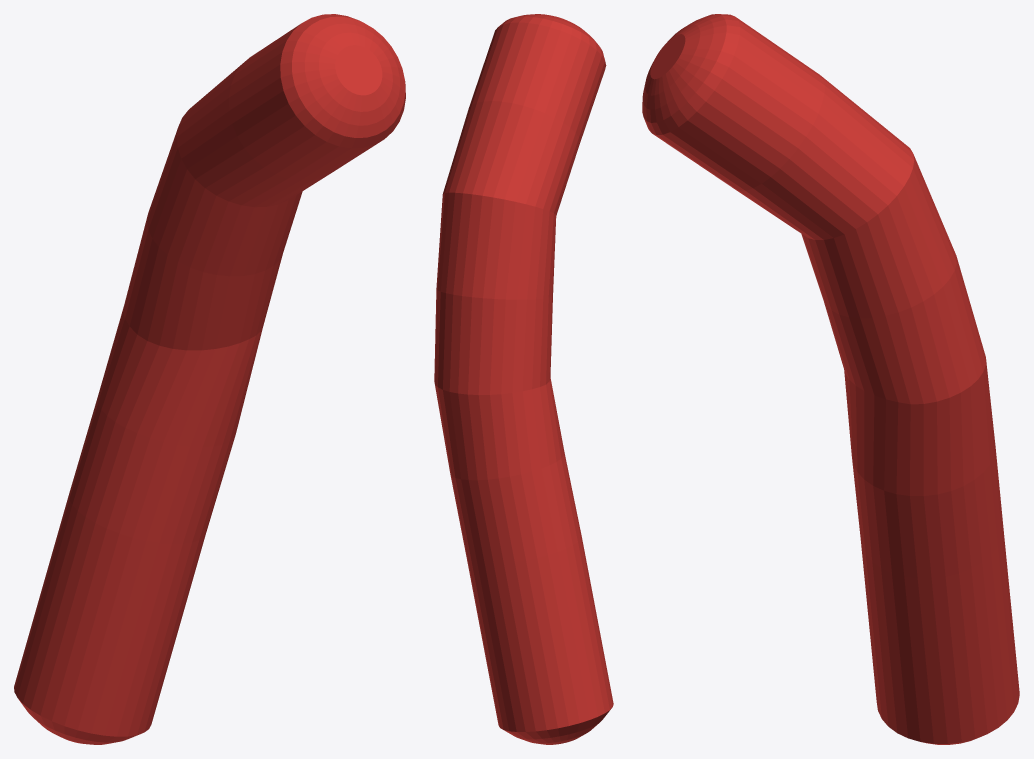
The model's file is hotdog05.fbx.
3 renders of one model, left to right at view 1: azimuth 30°, elevation 25°; view 2: azimuth 150°, elevation 25°; view 3: azimuth 270°, elevation 25°, orthographic. The views are drawn at different scales.
Visible parts, largest first — view 1: hotdog.005; view 2: hotdog.005; view 3: hotdog.005.
Boxes of the visible parts, x1=… form: hotdog.005: x1=14, y1=14, x2=405, y2=744; hotdog.005: x1=434, y1=14, x2=613, y2=744; hotdog.005: x1=642, y1=14, x2=1019, y2=744.
Bounding box in the file's own units: 413 × 1189 × 526.
